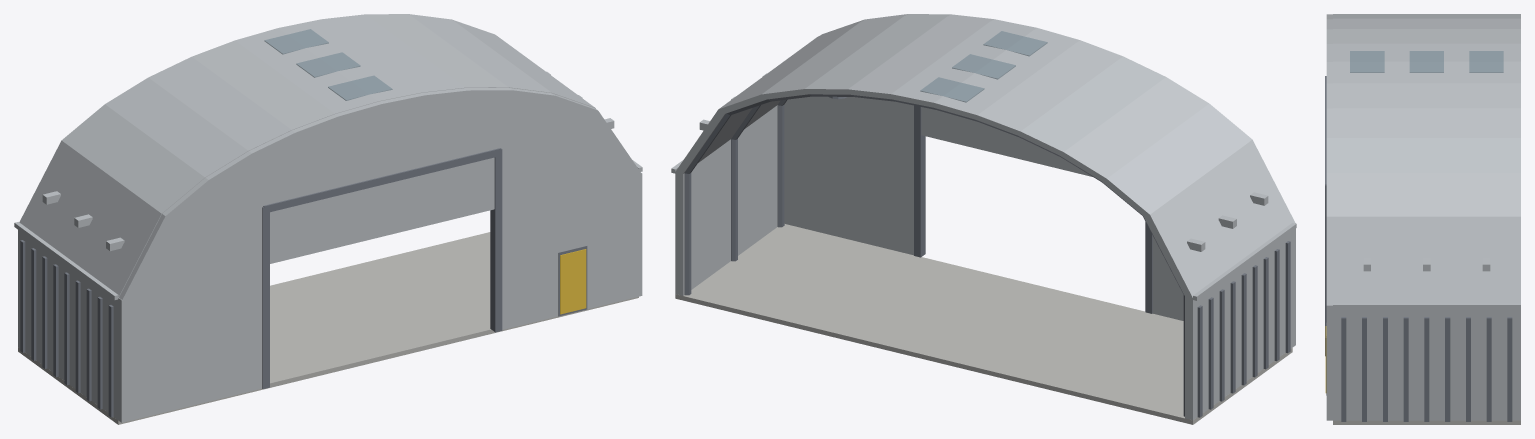
File: ufo-crash-site-and-recovery-facility-hangar-bay-end-wa-04a3d605__17356.glb
The picture shows the model from 3 angles, left to right: view 1: azimuth 30°, elevation 25°; view 2: azimuth 150°, elevation 25°; view 3: azimuth 270°, elevation 25°; orthographic projection. The views are drawn at different scales.
Parts seen in each view (by area): view 1: hangar-bay-end-wall; view 2: hangar-bay-end-wall; view 3: hangar-bay-end-wall.
Part boxes in pixels (x1,y1,x2,y2): hangar-bay-end-wall: [14, 14, 642, 424]; hangar-bay-end-wall: [671, 14, 1296, 424]; hangar-bay-end-wall: [1325, 14, 1520, 424].
Size of the model in its own units: 18.26 by 8.6 by 6.25.
